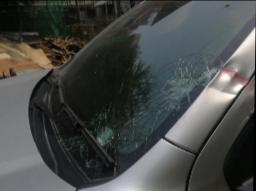Windshield: (83, 48, 240, 166)
